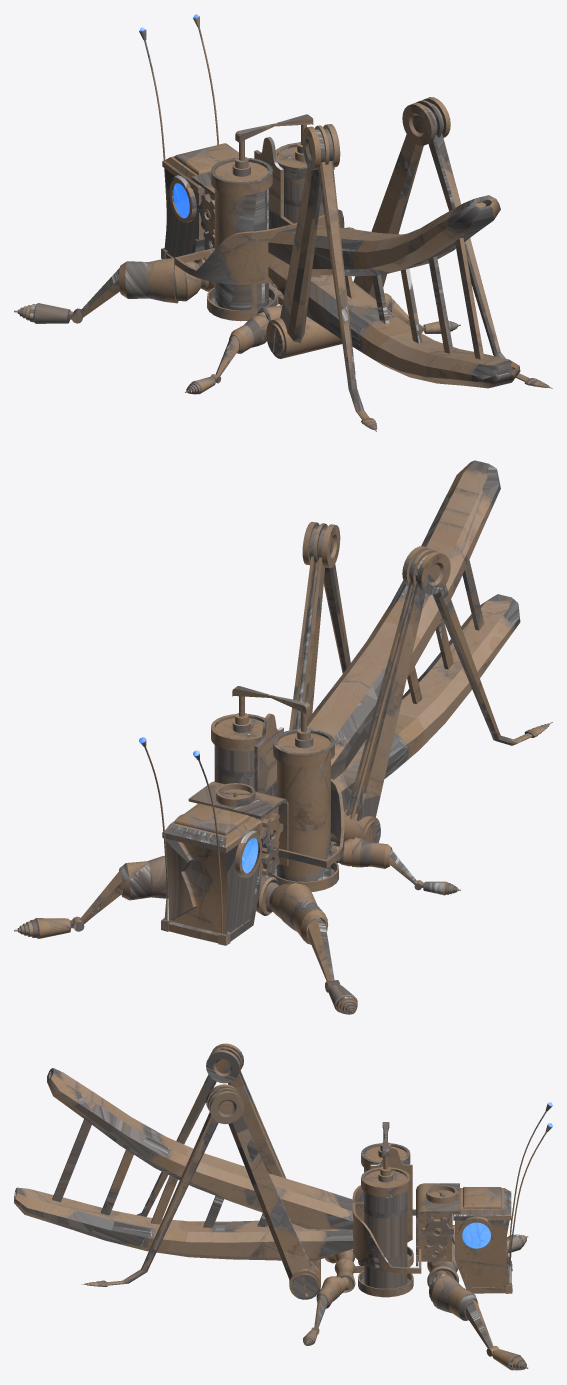
The model's file is mechanicalGrasshopper.gltf.
The picture shows the model from 3 angles, top to bottom: view 1: azimuth 30°, elevation 25°; view 2: azimuth 150°, elevation 25°; view 3: azimuth 270°, elevation 25°; orthographic projection. The views are drawn at different scales.
Parts seen in each view (by area): view 1: Cube.023_low, Cylinder.052_low, Cube.014_low, Cube.022_low, Cube.021_low, Cube.017_low, Cube.025_low, Cube.006_low, Cylinder.051_low, Cylinder.046_low, Cylinder.053_low, Cylinder.035_low (+9 smaller); view 2: Cube.014_low, Cube.025_low, Cylinder.052_low, Cube.023_low, Cube.022_low, Cube.021_low, Cylinder.046_low, Cylinder.051_low, Cube.017_low, Cube.024_low, Cube.018_low, Cylinder.029_low (+7 smaller); view 3: Cube.014_low, Cube.023_low, Cylinder.052_low, Cube.022_low, Cube.025_low, Cube.021_low, Cube.017_low, Cube.006_low, Cylinder.051_low, Cylinder.046_low, Cube.024_low, Cylinder.050_low (+11 smaller).
Part boxes in pixels (x1,y1,x2,y2): Cube.023_low: (268, 257, 520, 388); Cylinder.052_low: (211, 124, 334, 310); Cube.014_low: (268, 195, 500, 276); Cube.022_low: (280, 134, 423, 342); Cube.021_low: (318, 133, 529, 419); Cube.017_low: (174, 137, 344, 284); Cube.025_low: (161, 143, 238, 261); Cube.006_low: (345, 237, 484, 359); Cylinder.051_low: (302, 97, 450, 170); Cylinder.046_low: (119, 258, 178, 303); Cylinder.053_low: (266, 316, 342, 358); Cylinder.035_low: (229, 293, 392, 353); Cube.014_low: (307, 460, 500, 779); Cube.025_low: (161, 803, 262, 945); Cylinder.052_low: (211, 696, 334, 881); Cube.023_low: (334, 594, 520, 811); Cube.022_low: (289, 556, 425, 821); Cube.021_low: (323, 564, 532, 745); Cylinder.046_low: (119, 855, 327, 944); Cylinder.051_low: (302, 522, 450, 594); Cube.017_low: (214, 713, 344, 876); Cube.024_low: (188, 781, 288, 865); Cube.018_low: (79, 870, 334, 981); Cylinder.029_low: (295, 560, 415, 819); Cube.014_low: (47, 1068, 353, 1229); Cube.023_low: (14, 1187, 353, 1261); Cylinder.052_low: (361, 1131, 410, 1288); Cube.022_low: (228, 1071, 311, 1279); Cube.025_low: (453, 1187, 512, 1293); Cube.021_low: (107, 1075, 218, 1285); Cube.017_low: (352, 1147, 421, 1273); Cube.006_low: (52, 1119, 267, 1227); Cylinder.051_low: (206, 1043, 243, 1124); Cylinder.046_low: (432, 1225, 478, 1320); Cube.024_low: (416, 1183, 459, 1266); Cylinder.050_low: (458, 1221, 494, 1251).
Size of the model in its own units: 1.16 by 0.9874 by 2.
